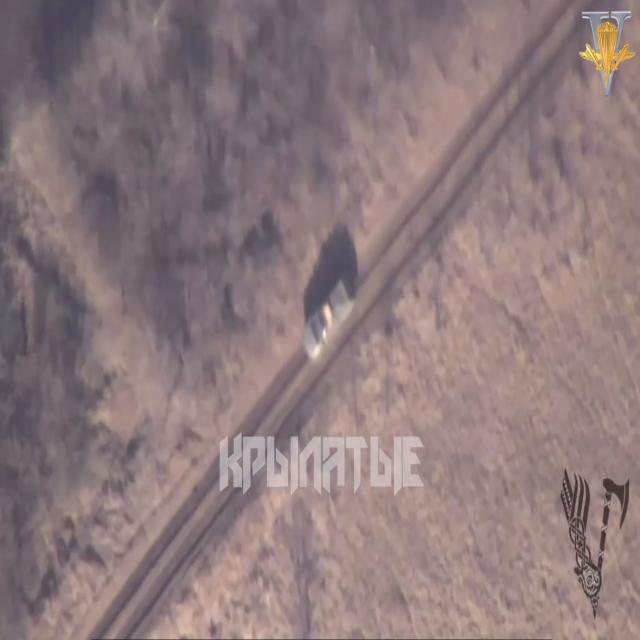vehicle: (285, 263, 365, 371)
